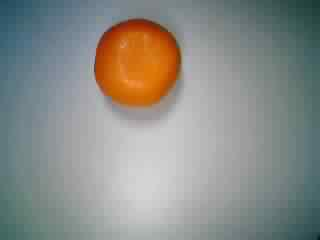orange: (92, 17, 187, 111)
